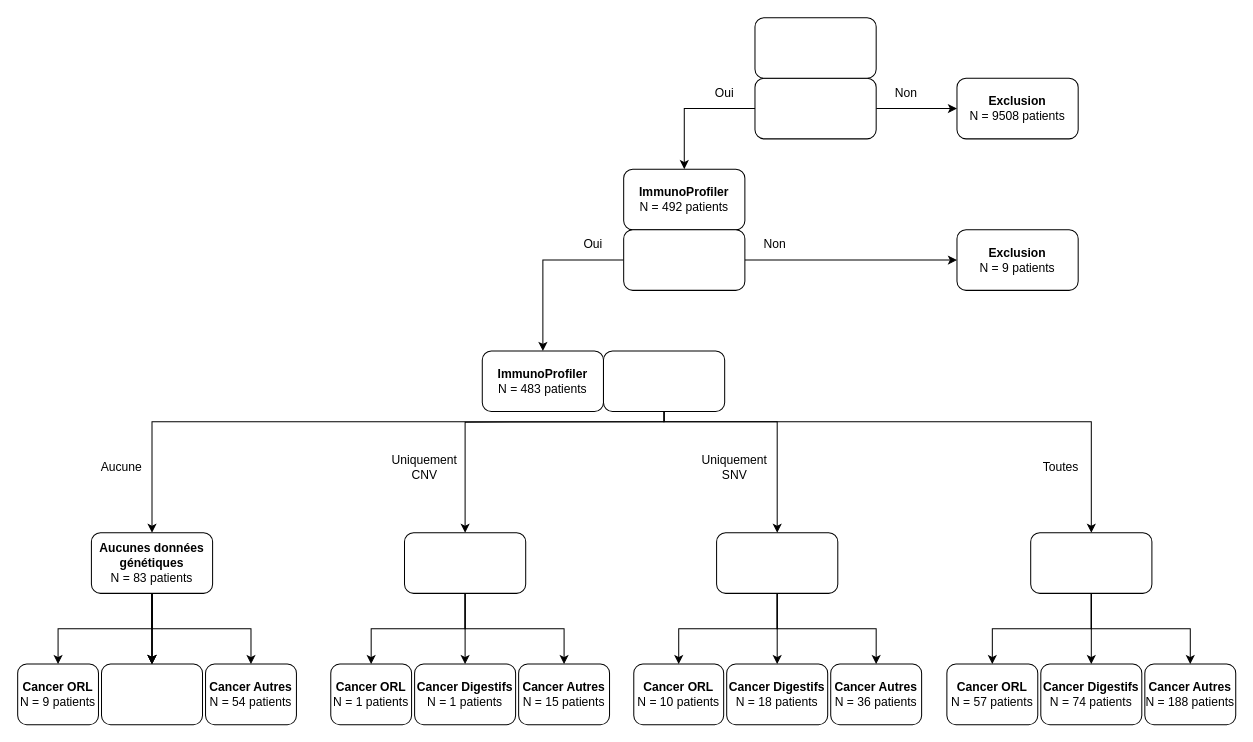
Some shapes in this 1253 by 742 pixel diagram are drawn without their labels. The centre of each missing label's shape, as x and y in pixels:
"Cancer Digestifs N = 20 patients" goes at (151,694).
"Données génétiques disponibles ?" goes at (663,381).
"Données immunologiques disponibles ?" goes at (815,108).
"Localisation tumorale disponible ?" goes at (684,259).
"Profiler N = 10000 patients" goes at (815,47).
"Toutes données génétiques N = 319 patients" goes at (1091,562).
"Uniquement données CNV N = 17 patients" goes at (464,562).
"Uniquement données SNV N = 64 patients" goes at (777,562).
